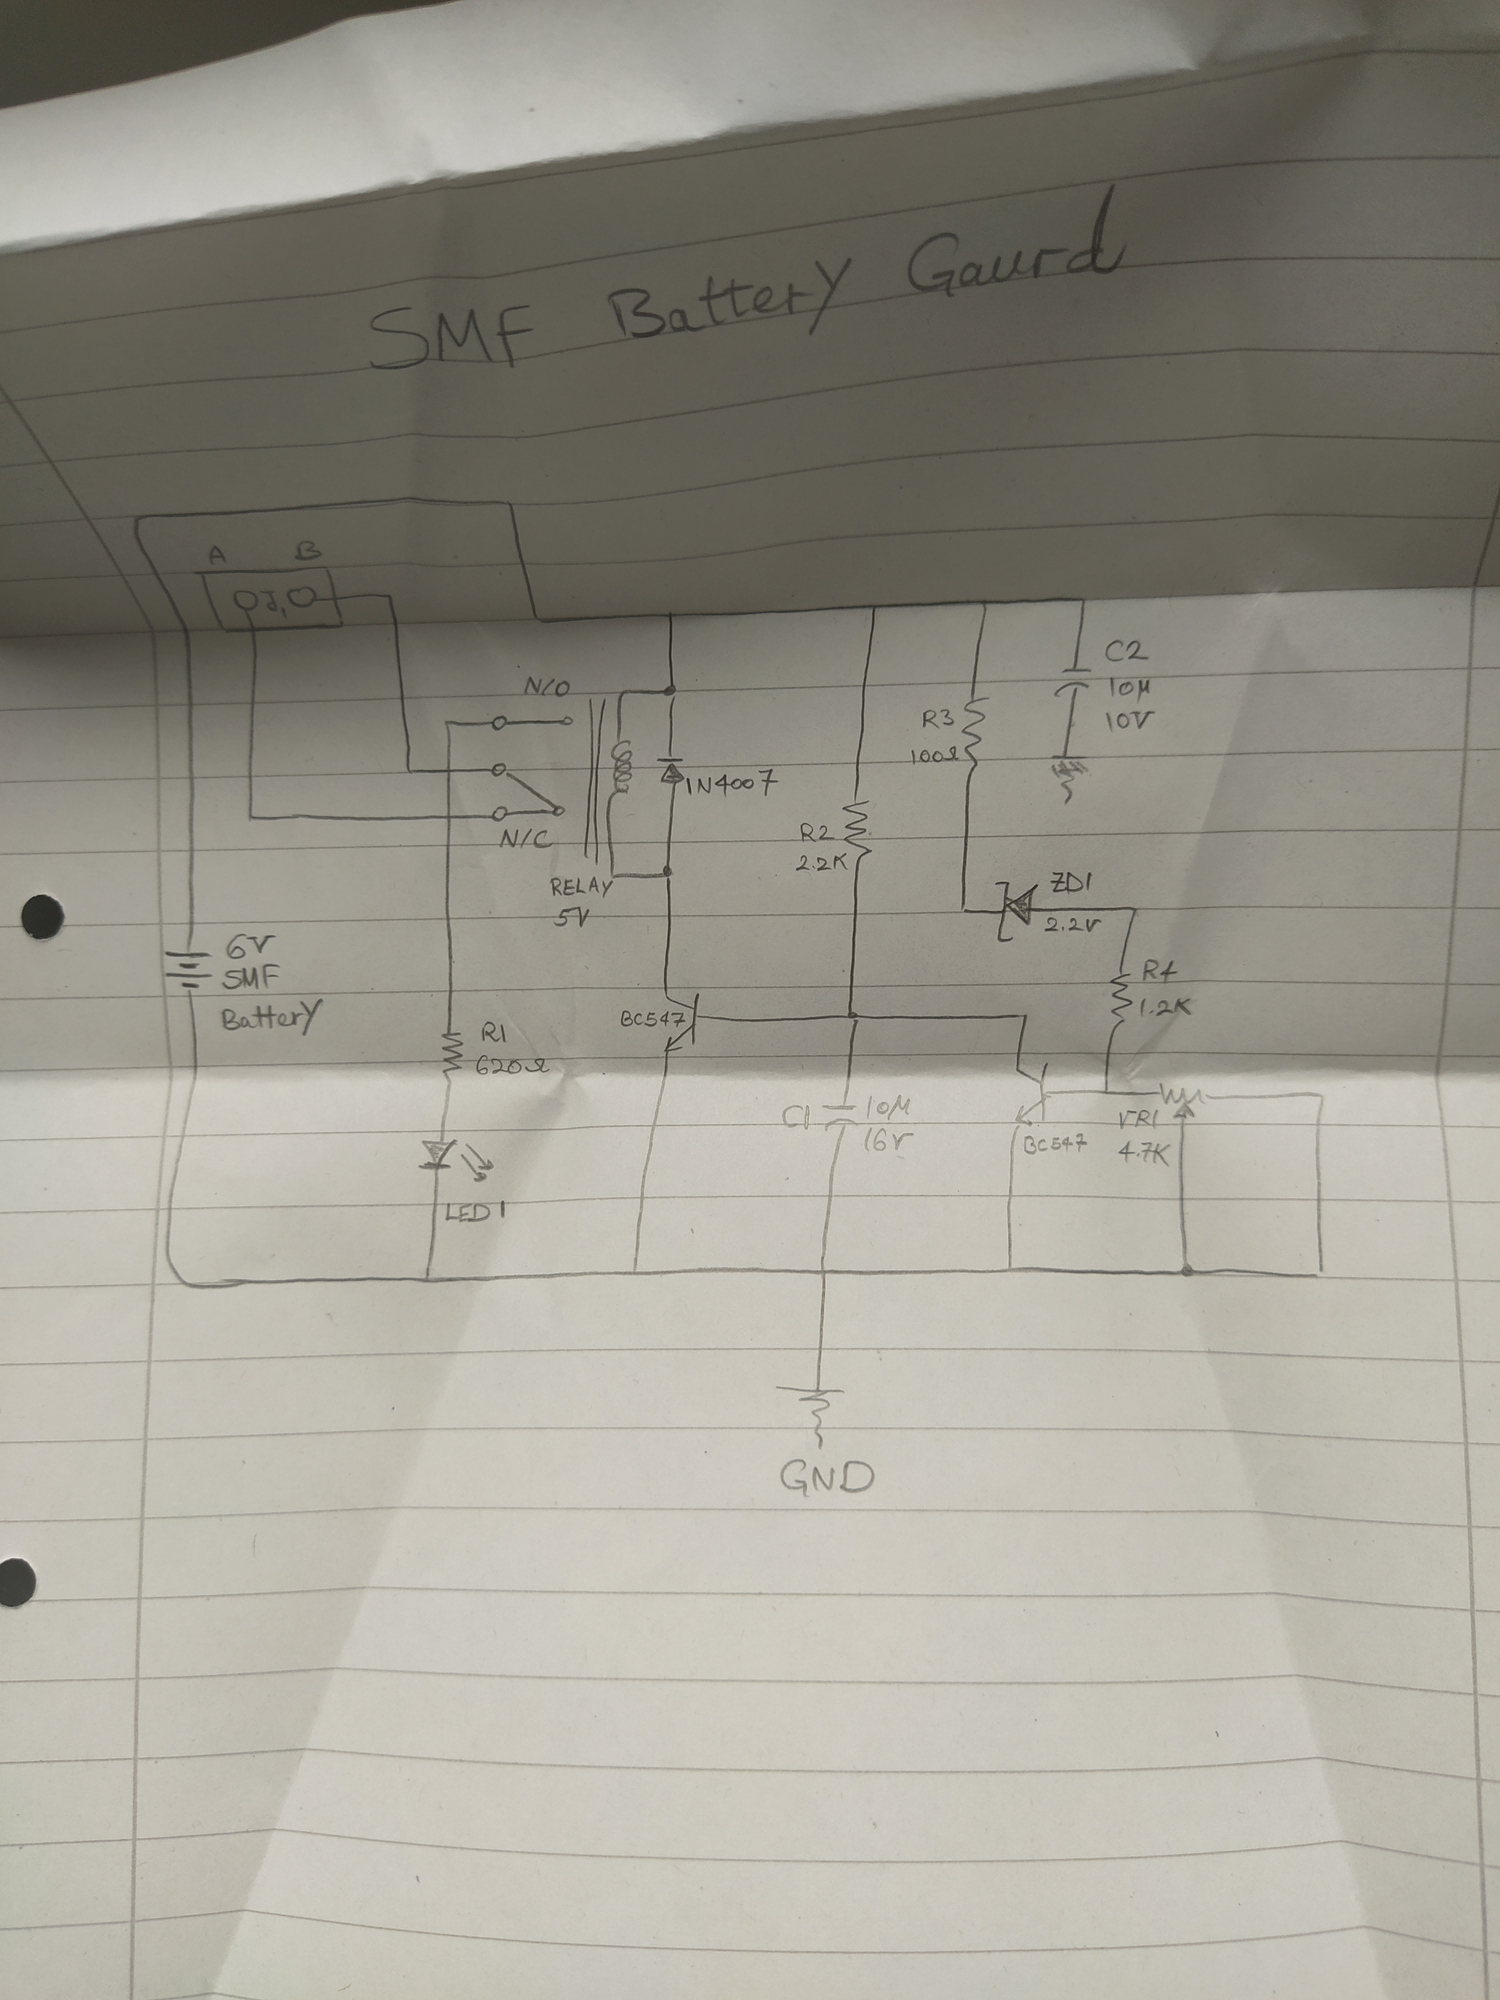capacitor.unpolarized: (819, 1098, 860, 1132), (1053, 666, 1095, 698)
crossover: (440, 764, 454, 780), (443, 808, 455, 825)
diode: (989, 880, 1038, 946), (655, 754, 685, 784)
diode.light_emitting: (413, 1131, 496, 1183)
gnd: (778, 1383, 848, 1446), (1046, 753, 1092, 808)
junction: (165, 1265, 195, 1294), (1175, 1258, 1197, 1283), (813, 1261, 837, 1280), (243, 808, 262, 828), (657, 861, 678, 880), (128, 509, 147, 528), (418, 1269, 436, 1287), (626, 1261, 643, 1280), (1002, 1260, 1019, 1279), (843, 1006, 862, 1024), (660, 683, 681, 699), (953, 901, 971, 918), (1075, 591, 1092, 608), (529, 609, 547, 627), (1311, 1265, 1328, 1282), (1309, 1090, 1328, 1106), (499, 494, 518, 510), (863, 598, 882, 614), (975, 595, 994, 611), (380, 587, 399, 602), (663, 606, 679, 622), (440, 715, 455, 731), (1016, 1008, 1034, 1022), (402, 762, 418, 776), (1125, 902, 1141, 917), (1098, 1085, 1112, 1099)
relay: (487, 687, 638, 880)
resistor: (958, 693, 991, 770), (838, 795, 871, 861), (435, 1027, 468, 1080), (1106, 965, 1133, 1025)
resistor.adjustable: (1158, 1080, 1209, 1121)
terminal: (287, 584, 317, 609), (232, 587, 258, 613)
text: (336, 176, 1131, 384), (777, 1457, 881, 1499), (217, 1000, 326, 1036), (684, 765, 780, 798), (473, 1054, 555, 1079), (216, 961, 282, 991), (440, 1198, 509, 1227), (1019, 1129, 1092, 1156), (611, 1005, 679, 1031), (548, 874, 614, 901), (222, 931, 277, 961), (1136, 994, 1197, 1020), (520, 672, 574, 701), (499, 825, 555, 852), (1138, 954, 1182, 987), (1119, 1139, 1172, 1165), (863, 1128, 915, 1154), (1106, 706, 1158, 732), (1103, 636, 1152, 665), (1105, 676, 1153, 702), (794, 850, 849, 874), (867, 1091, 912, 1120), (908, 743, 961, 767), (1045, 913, 1101, 935), (1046, 868, 1092, 894), (799, 817, 840, 846), (778, 1101, 815, 1132), (551, 906, 592, 931), (919, 706, 956, 731), (1116, 1106, 1161, 1126), (258, 587, 287, 619), (479, 1017, 511, 1046), (291, 535, 323, 562), (203, 542, 227, 565)
transistor: (1010, 1057, 1056, 1131), (654, 994, 704, 1054)
voltage.dc: (159, 945, 216, 998)
